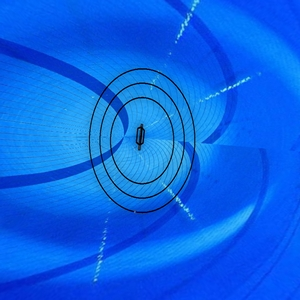circle: (86, 67, 199, 217)
submarine: (132, 119, 152, 161)
